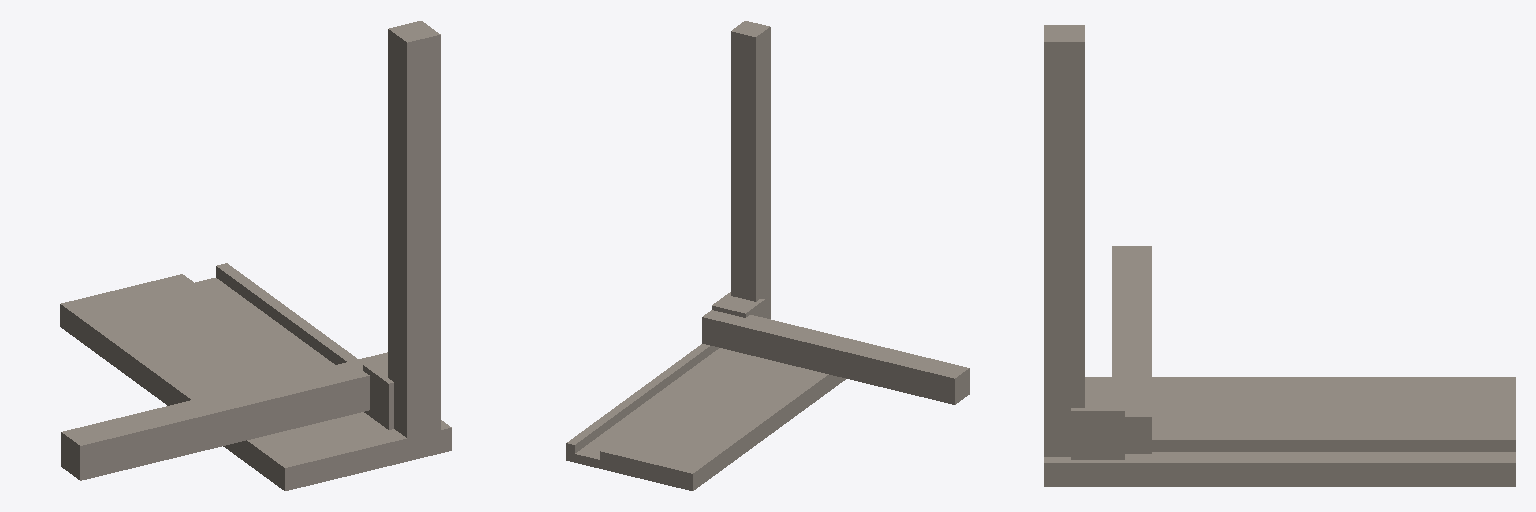
robot.urdf — Cartesian:
<?xml version="1.0" encoding="utf-8"?>
<!-- This URDF was automatically created by SolidWorks to URDF Exporter! Originally created by [author] ([email redacted])
     Commit Version: 1.6.0-1-g15f4949  Build Version: 1.6.7594.29634
     For more information, please see http://wiki.ros.org/sw_urdf_exporter -->
<robot
  name="Cartesian">
  <link
    name="base_link">
    <inertial>
      <origin
        xyz="-0.0055556 0 0.0094444"
        rpy="0 0 0" />
      <mass
        value="7.4258" />
      <inertia
        ixx="0.07605"
        ixy="1.4151E-19"
        ixz="0.00022919"
        iyy="0.013362"
        iyz="1.3595E-20"
        izz="0.088922" />
    </inertial>
    <visual>
      <origin
        xyz="0 0 0"
        rpy="0 0 0" />
      <geometry>
        <mesh
          filename="package://Cartesian/meshes/base_link.STL" />
      </geometry>
      <material
        name="">
        <color
          rgba="0.65098 0.61961 0.58824 1" />
      </material>
    </visual>
    <collision>
      <origin
        xyz="0 0 0"
        rpy="0 0 0" />
      <geometry>
        <mesh
          filename="package://Cartesian/meshes/base_link.STL" />
      </geometry>
    </collision>
  </link>
  <link
    name="tower_link">
    <inertial>
      <origin
        xyz="0 0 0.175"
        rpy="0 0 0" />
      <mass
        value="2.4753" />
      <inertia
        ixx="0.025454"
        ixy="4.1933E-21"
        ixz="2.0783E-34"
        iyy="0.025454"
        iyz="-2.3908E-19"
        izz="0.00037129" />
    </inertial>
    <visual>
      <origin
        xyz="0 0 0"
        rpy="0 0 0" />
      <geometry>
        <mesh
          filename="package://Cartesian/meshes/tower_link.STL" />
      </geometry>
      <material
        name="">
        <color
          rgba="0.65098 0.61961 0.58824 1" />
      </material>
    </visual>
    <collision>
      <origin
        xyz="0 0 0"
        rpy="0 0 0" />
      <geometry>
        <mesh
          filename="package://Cartesian/meshes/tower_link.STL" />
      </geometry>
    </collision>
  </link>
  <joint
    name="base_tower_prismatic_joint"
    type="prismatic">
    <origin
      xyz="0.05 -0.16 0.01"
      rpy="0 0 0" />
    <parent
      link="base_link" />
    <child
      link="tower_link" />
    <axis
      xyz="0 1 0" />
    <limit
      lower="-1"
      upper="1"
      effort="0"
      velocity="0" />
  </joint>
  <link
    name="shoulder_link">
    <inertial>
      <origin
        xyz="-0.0034615 -0.02 1.3878E-17"
        rpy="0 0 0" />
      <mass
        value="0.31432" />
      <inertia
        ixx="9.482E-05"
        ixy="1.625E-21"
        ixz="8.9762E-22"
        iyy="7.046E-05"
        iyz="3.0177E-21"
        izz="7.046E-05" />
    </inertial>
    <visual>
      <origin
        xyz="0 0 0"
        rpy="0 0 0" />
      <geometry>
        <mesh
          filename="package://Cartesian/meshes/shoulder_link.STL" />
      </geometry>
      <material
        name="">
        <color
          rgba="0.65098 0.61961 0.58824 1" />
      </material>
    </visual>
    <collision>
      <origin
        xyz="0 0 0"
        rpy="0 0 0" />
      <geometry>
        <mesh
          filename="package://Cartesian/meshes/shoulder_link.STL" />
      </geometry>
    </collision>
  </link>
  <joint
    name="tower_shoulder_prismatic_joint"
    type="prismatic">
    <origin
      xyz="0 0.028462 0.05"
      rpy="1.5708 0 1.5708" />
    <parent
      link="tower_link" />
    <child
      link="shoulder_link" />
    <axis
      xyz="0 1 0" />
    <limit
      lower="-1"
      upper="1"
      effort="0"
      velocity="0" />
  </joint>
  <link
    name="arm_link">
    <inertial>
      <origin
        xyz="2.7756E-17 -2.2551E-17 -0.15"
        rpy="0 0 0" />
      <mass
        value="2.1217" />
      <inertia
        ixx="0.016072"
        ixy="5.9379E-21"
        ixz="-1.364E-19"
        iyy="0.016072"
        iyz="-1.9871E-18"
        izz="0.00031825" />
    </inertial>
    <visual>
      <origin
        xyz="0 0 0"
        rpy="0 0 0" />
      <geometry>
        <mesh
          filename="package://Cartesian/meshes/arm_link.STL" />
      </geometry>
      <material
        name="">
        <color
          rgba="0.65098 0.61961 0.58824 1" />
      </material>
    </visual>
    <collision>
      <origin
        xyz="0 0 0"
        rpy="0 0 0" />
      <geometry>
        <mesh
          filename="package://Cartesian/meshes/arm_link.STL" />
      </geometry>
    </collision>
  </link>
  <joint
    name="shoulder_arm_prismatic_joint"
    type="prismatic">
    <origin
      xyz="0.021538 -0.02 0.02"
      rpy="0 0 0" />
    <parent
      link="shoulder_link" />
    <child
      link="arm_link" />
    <axis
      xyz="0 0 -1" />
    <limit
      lower="-1"
      upper="1"
      effort="0"
      velocity="0" />
  </joint>



</robot>

--- What the picture shows (computed from the rendered views, not written in the file) ---
3 views of the same robot in one strip: view 1: azimuth 30°, elevation 25°; view 2: azimuth 150°, elevation 25°; view 3: azimuth 270°, elevation 25° (orthographic).
Robot: Cartesian — 4 links, 3 joints (3 prismatic); root link base_link; default pose: all joints at 0.
Links seen in each view (by area): view 1: base_link, tower_link, arm_link, shoulder_link; view 2: base_link, tower_link, arm_link, shoulder_link; view 3: base_link, tower_link, arm_link, shoulder_link.
Link boxes in pixels (<box>): base_link: <box>60,263,451,490</box>; tower_link: <box>388,21,440,449</box>; arm_link: <box>61,352,387,480</box>; shoulder_link: <box>363,359,393,429</box>; base_link: <box>566,344,845,490</box>; tower_link: <box>731,21,770,318</box>; arm_link: <box>702,310,969,404</box>; shoulder_link: <box>712,292,764,317</box>; base_link: <box>1044,377,1515,486</box>; tower_link: <box>1044,25,1084,456</box>; arm_link: <box>1112,246,1151,453</box>; shoulder_link: <box>1071,388,1124,459</box>.
Size in the robot's own frame: 0.305 by 0.35 by 0.36 metres.
4 mesh visuals loaded from 4 distinct referenced files (4 binary STL).